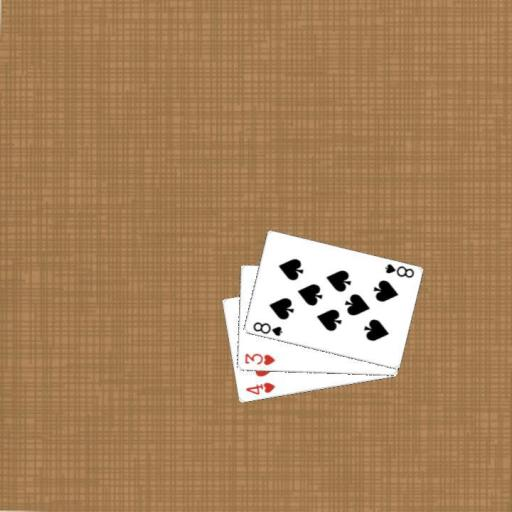3H: (242, 350, 276, 367)
4H: (242, 379, 276, 397)
8S: (250, 319, 284, 338), (381, 261, 415, 279)
